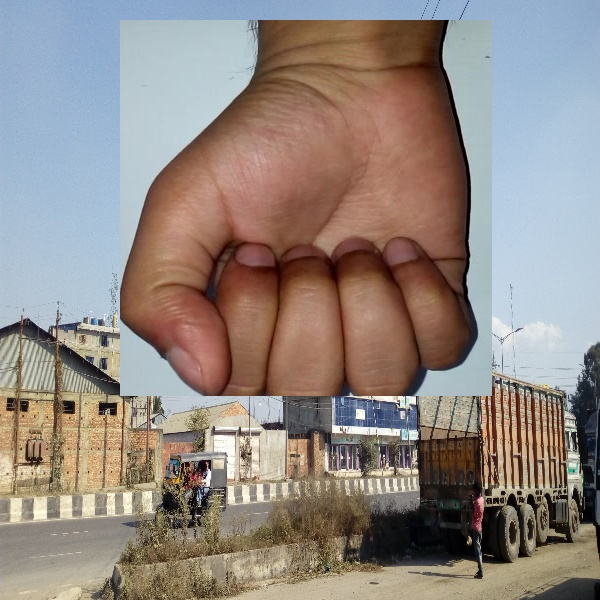A: (120, 20, 492, 396)
